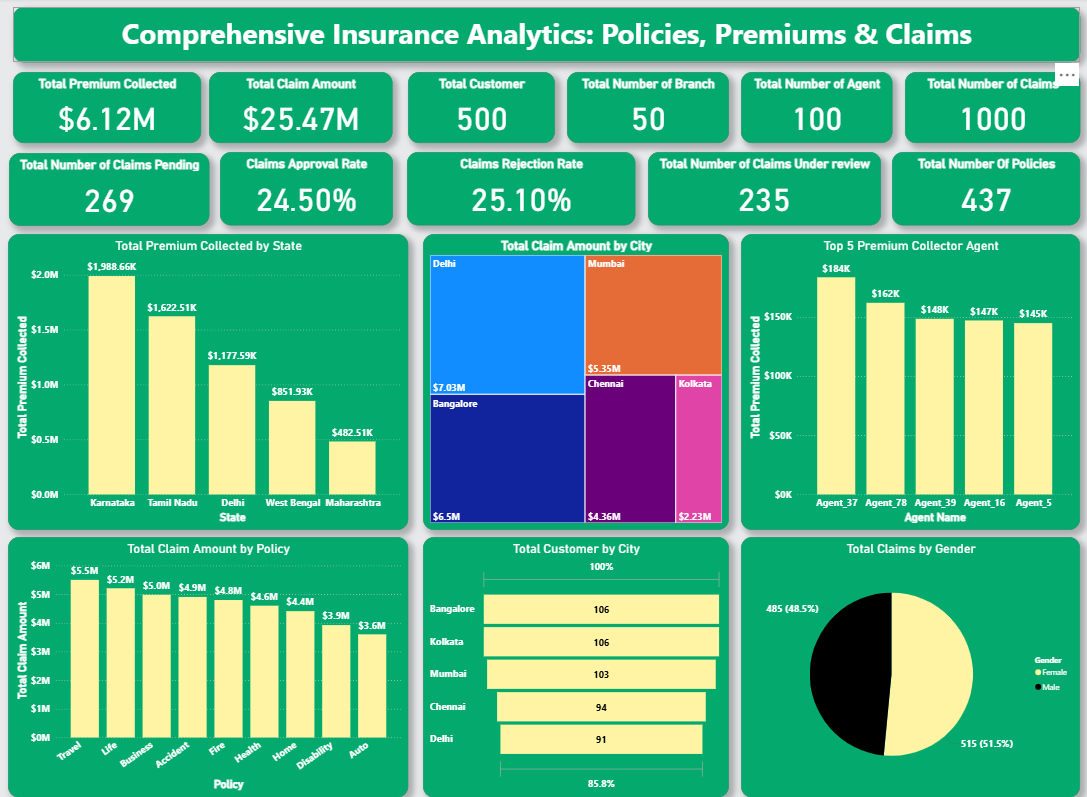

Layout of this report page (visuals, bound fields, positions):
{"tool":"powerbi","page":{"name":"Insurance Dashboard","canvas":[1920,1380],"ordinal":0},"visuals":[{"type":"card","title":"Total Premium Collected","fields":{"Values":["FactPremiumPayments.Total Premium Collected"]},"box":[30.5,127.3,322.7,121.9],"z":0},{"type":"card","title":"Total Claim Amount","fields":{"Values":["FactClaimEvents.Total Claim Amount"]},"box":[368.1,126.8,315.3,121.5],"z":1},{"type":"card","title":"Total Customer","fields":{"Values":["DimCustomer.Total Customer"]},"box":[708.1,126.8,251.9,121.5],"z":2},{"type":"card","title":"Total Number of Branch","fields":{"Values":["DimBranch.Total Branch"]},"box":[982.4,127.3,277.9,121.9],"z":3},{"type":"card","title":"Total Number of Agent","fields":{"Values":["DimAgent.Total Number of Agent"]},"box":[1280,127.3,259.9,121.9],"z":4},{"type":"card","title":"Total Number of Claims","fields":{"Values":["FactClaimEvents.Total Claims"]},"box":[1561.5,127.3,301.2,121.9],"z":5},{"type":"card","title":"Total Number of Claims Pending","fields":{"Values":["FactClaimEvents.Total Number of Pending Claims"]},"box":[23.3,265.3,344.2,125.5],"z":6},{"type":"card","title":"Claims Approval Rate","fields":{"Values":["FactClaimEvents.Claim Approval Rate"]},"box":[386.3,264.5,296.8,125.6],"z":7},{"type":"card","title":"Claims Rejection Rate","fields":{"Values":["FactClaimEvents.Claim Rejection Rate"]},"box":[707.9,264.5,392,125.6],"z":8},{"type":"card","title":"Total Number of Claims Under review","fields":{"Values":["FactClaimEvents.Total Number of Claims Under Review"]},"box":[1120.8,264.5,399.6,125.6],"z":9},{"type":"card","title":"Total Number Of Policies","fields":{"Values":["FactPolicyTransactions.Total Number of Policies"]},"box":[1539.4,264.5,323.5,125.6],"z":10},{"type":"columnChart","fields":{"Y":["FactPremiumPayments.Total Premium Collected"],"Category":["DimBranch.State"]},"box":[22.8,405.3,686.9,508.1],"z":11},{"type":"treemap","fields":{"Values":["FactClaimEvents.Total Claim Amount"],"Group":["DimBranch.City"]},"box":[734.5,405.3,525.2,508.1],"z":12},{"type":"funnel","fields":{"Y":["DimCustomer.Total Customer"],"Category":["DimCustomer.City"]},"box":[734.5,924.8,525.2,447.2],"z":13},{"type":"columnChart","title":"Total Claim Amount by Policy","fields":{"Y":["FactClaimEvents.Total Claim Amount"],"Category":["DimPolicyType.TypeName"]},"box":[22.8,924.8,686.9,447.2],"z":14},{"type":"columnChart","title":"Top 5 Premium Collector Agent","fields":{"Y":["FactPremiumPayments.Total Premium Collected"],"Category":["DimAgent.AgentName"]},"box":[1280.6,405.3,582.3,508.1],"z":15},{"type":"pieChart","fields":{"Y":["FactClaimEvents.Total Claims"],"Category":["DimCustomer.Gender"]},"box":[1280.6,924.8,582.3,447.2],"z":16},{"type":"textbox","box":[30.4,15.2,1832.5,95.1],"z":17}]}

Visuals, with their boxes in screenshot pixels (x1, y1, x2, y2), scaled from the page's 1920x1380 canvas onto the 1087x797 screenshot:
"Total Premium Collected" card: {"x1": 17, "y1": 74, "x2": 200, "y2": 144}
"Total Claim Amount" card: {"x1": 208, "y1": 73, "x2": 387, "y2": 143}
"Total Customer" card: {"x1": 401, "y1": 73, "x2": 544, "y2": 143}
"Total Number of Branch" card: {"x1": 556, "y1": 74, "x2": 714, "y2": 144}
"Total Number of Agent" card: {"x1": 725, "y1": 74, "x2": 872, "y2": 144}
"Total Number of Claims" card: {"x1": 884, "y1": 74, "x2": 1055, "y2": 144}
"Total Number of Claims Pending" card: {"x1": 13, "y1": 153, "x2": 208, "y2": 226}
"Claims Approval Rate" card: {"x1": 219, "y1": 153, "x2": 387, "y2": 225}
"Claims Rejection Rate" card: {"x1": 401, "y1": 153, "x2": 623, "y2": 225}
"Total Number of Claims Under review" card: {"x1": 635, "y1": 153, "x2": 861, "y2": 225}
"Total Number Of Policies" card: {"x1": 872, "y1": 153, "x2": 1055, "y2": 225}
columnChart - FactPremiumPayments.Total Premium Collected x DimBranch.State: {"x1": 13, "y1": 234, "x2": 402, "y2": 528}
treemap - FactClaimEvents.Total Claim Amount x DimBranch.City: {"x1": 416, "y1": 234, "x2": 713, "y2": 528}
funnel - DimCustomer.Total Customer x DimCustomer.City: {"x1": 416, "y1": 534, "x2": 713, "y2": 792}
"Total Claim Amount by Policy" columnChart: {"x1": 13, "y1": 534, "x2": 402, "y2": 792}
"Top 5 Premium Collector Agent" columnChart: {"x1": 725, "y1": 234, "x2": 1055, "y2": 528}
pieChart - FactClaimEvents.Total Claims x DimCustomer.Gender: {"x1": 725, "y1": 534, "x2": 1055, "y2": 792}
textbox: {"x1": 17, "y1": 9, "x2": 1055, "y2": 64}
